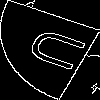U: (24, 25, 99, 77)
